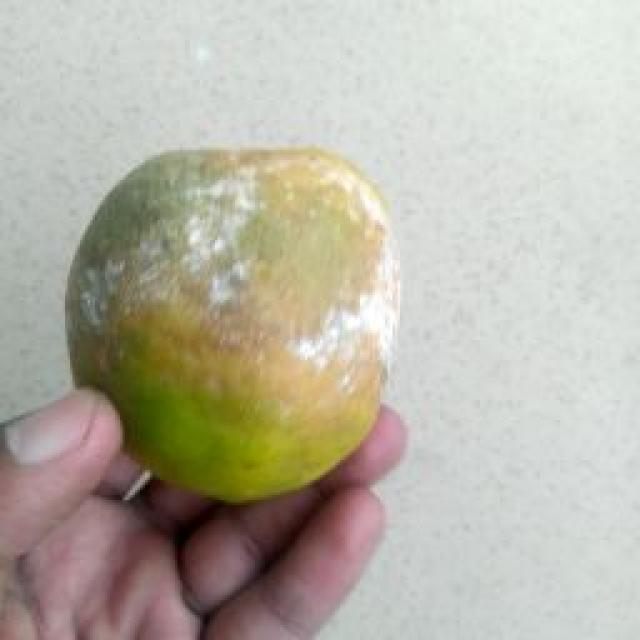Bad_Orange: (69, 148, 398, 502)
